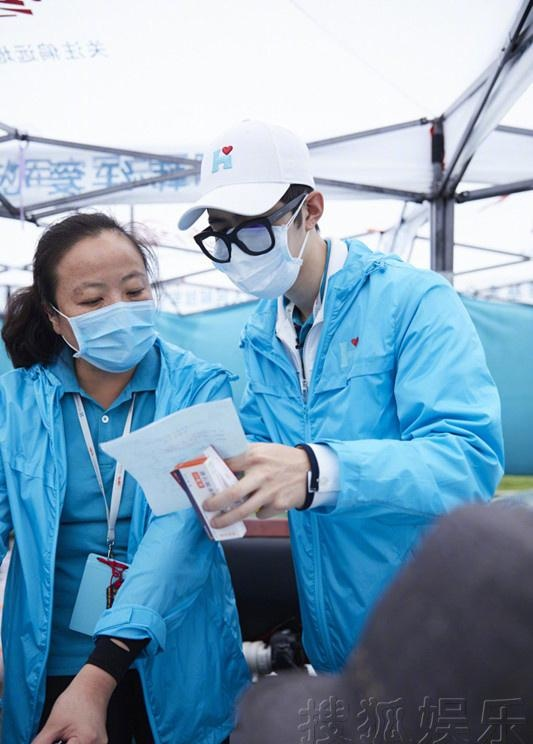Mask: (67, 266, 160, 360)
